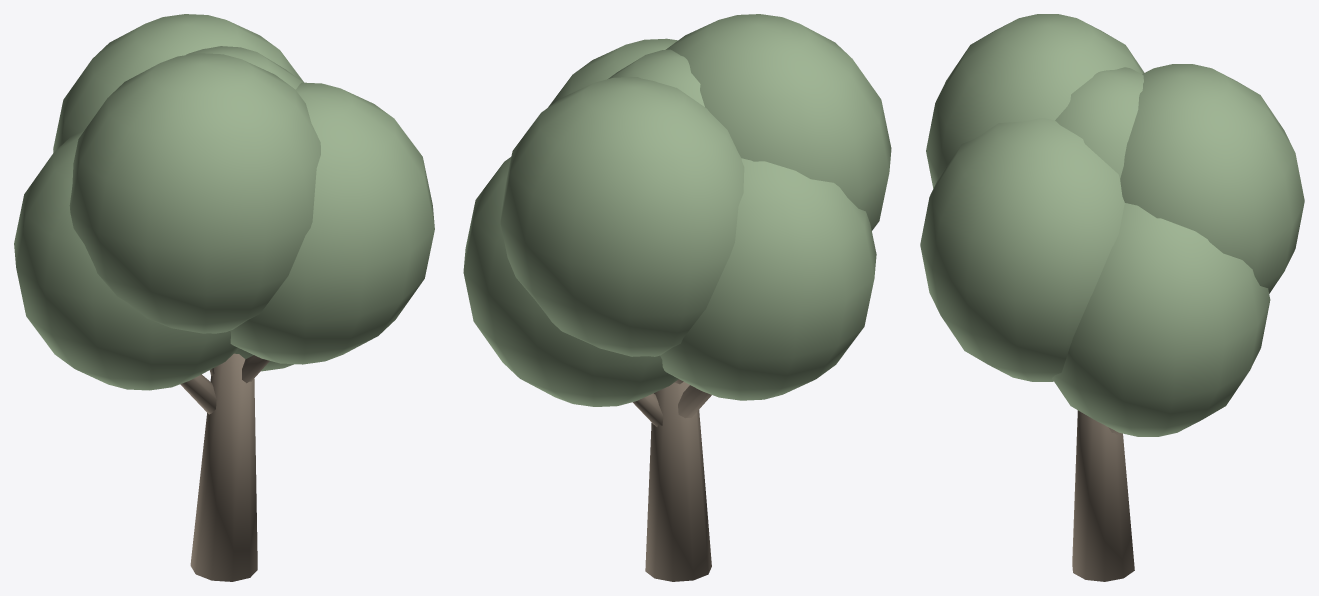
File: Tree1_S130.fbx
3 views of the same model, side by side, from view 1: azimuth 30°, elevation 25°; view 2: azimuth 150°, elevation 25°; view 3: azimuth 270°, elevation 25° (orthographic). The views are drawn at different scales.
Parts seen in each view (by area): view 1: Tree1_S130; view 2: Tree1_S130; view 3: Tree1_S130.
Part boxes in pixels (<box>): Tree1_S130: <box>14,14,434,581</box>; Tree1_S130: <box>463,14,891,581</box>; Tree1_S130: <box>920,14,1304,581</box>.
Size of the model in its own units: 648 by 615 by 915.
